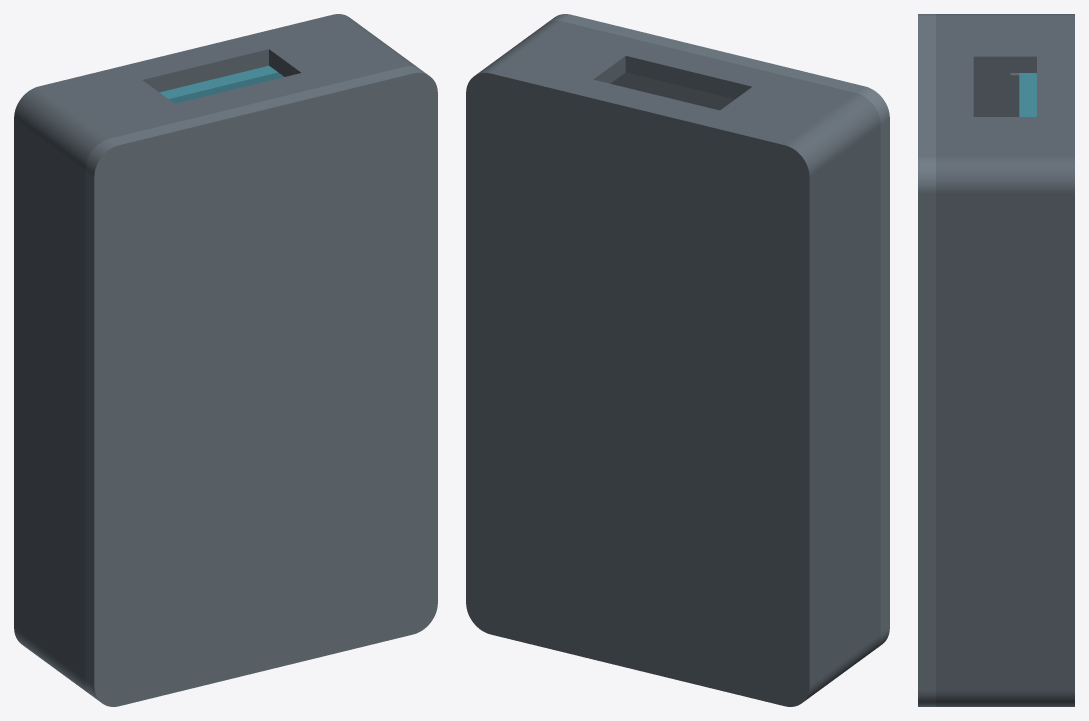
Rendered from easyduino-esp32_assembly.glb.
3 views of the same model, side by side, from view 1: azimuth 30°, elevation 25°; view 2: azimuth 150°, elevation 25°; view 3: azimuth 270°, elevation 25° (orthographic). The views are drawn at different scales.
Visible parts, largest first — view 1: lid, bottom, board_proxy; view 2: bottom, lid; view 3: bottom, lid, board_proxy.
Part boxes in pixels (box(x1,y1,x2,y2)): lid: box(85, 66, 437, 706); bottom: box(14, 14, 418, 695); board_proxy: box(159, 65, 283, 103); bottom: box(466, 20, 880, 706); lid: box(547, 14, 889, 649); bottom: box(936, 14, 1074, 706); lid: box(918, 14, 935, 706); board_proxy: box(1019, 73, 1036, 116).
Size of the model in its own units: 34.8 by 54.32 by 14.1.
